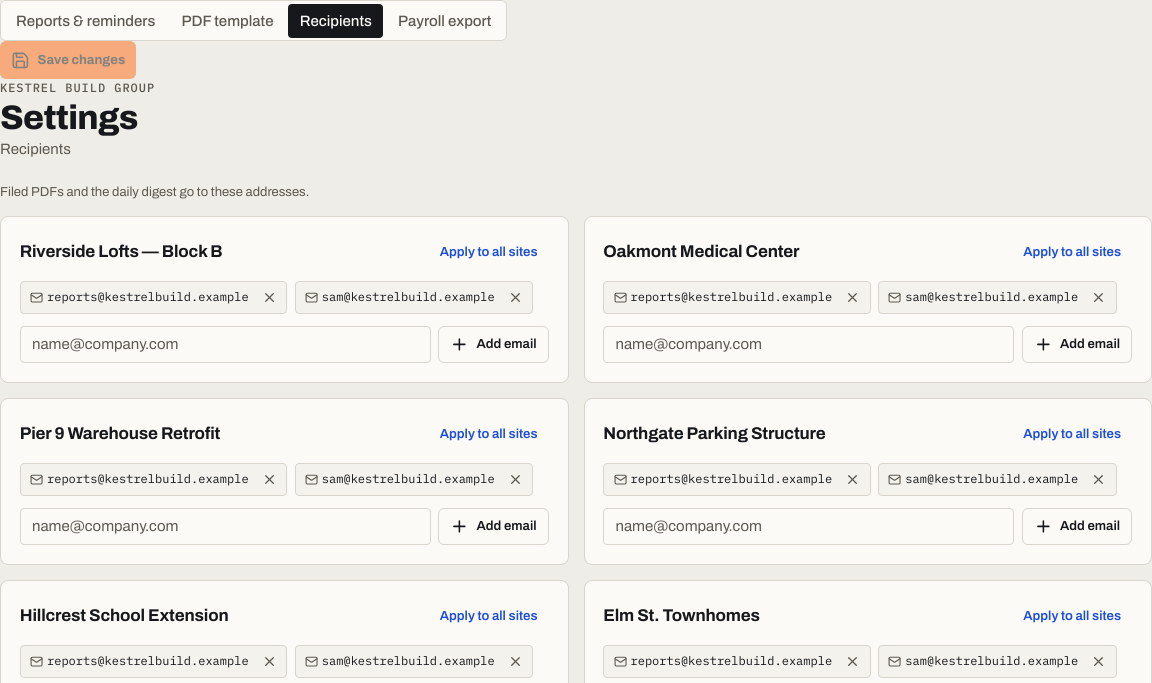
Test: SettingsPage (demo data) › edits recipients per site and applies one list to all sites
Expected: the heading "Settings" is shown, [0,100,155,134]
Expected: the tab "Recipients" is shown, [288,4,383,38]
In the field with placeholder "name@company.com" below "Riverside Lofts — Block B": (225, 344) [20,326,431,363], type "owner@riverside.example"
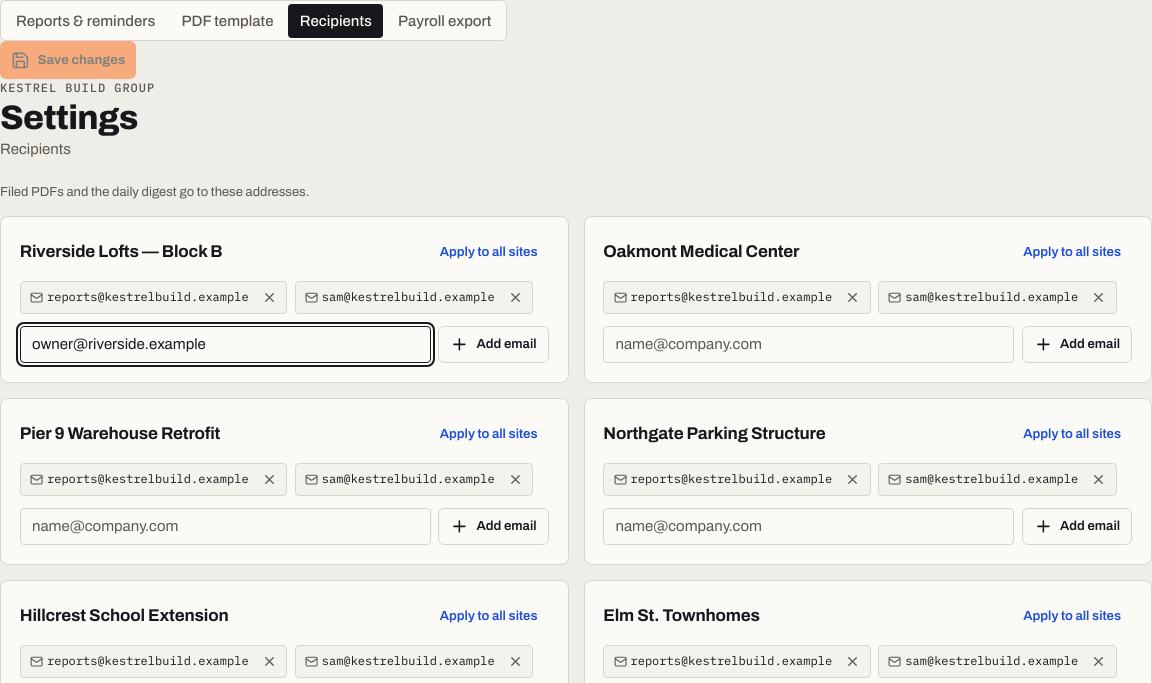
Click the button with aria-label "Add email · Riverside": (493, 344) [438,326,549,363]
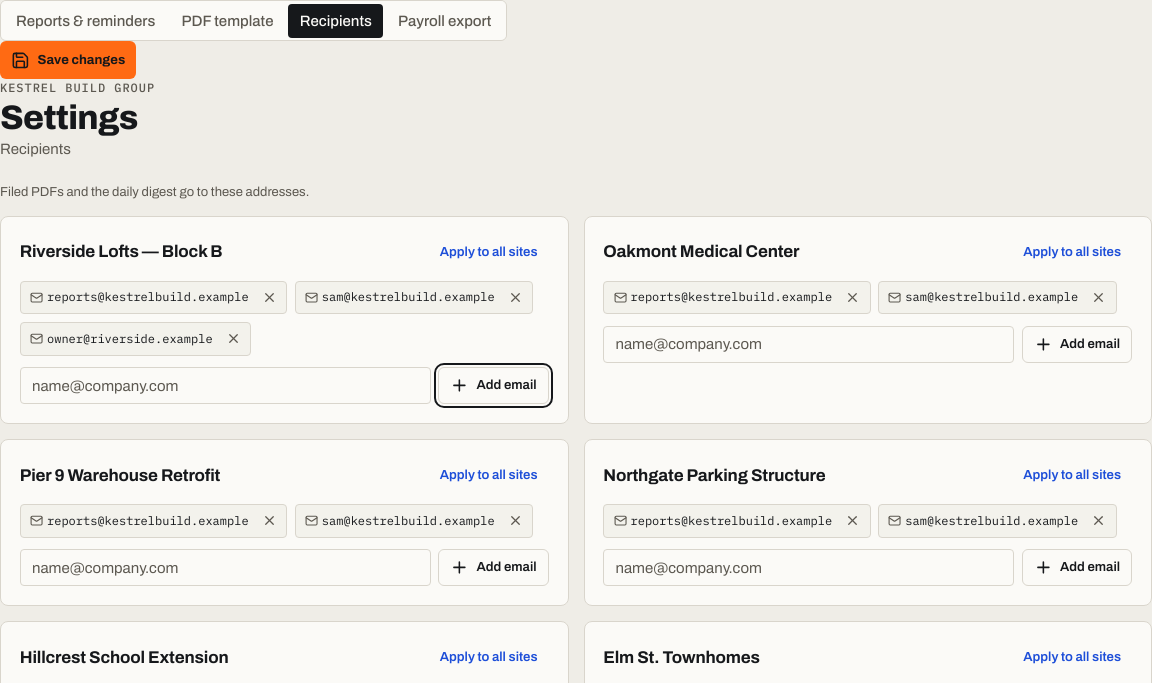
Now the list item "owner@riverside.example" is shown, box [20,322,251,356]
Click the button with aria-label "Apply to all sites · Riverside": (489, 252) [428,236,549,269]
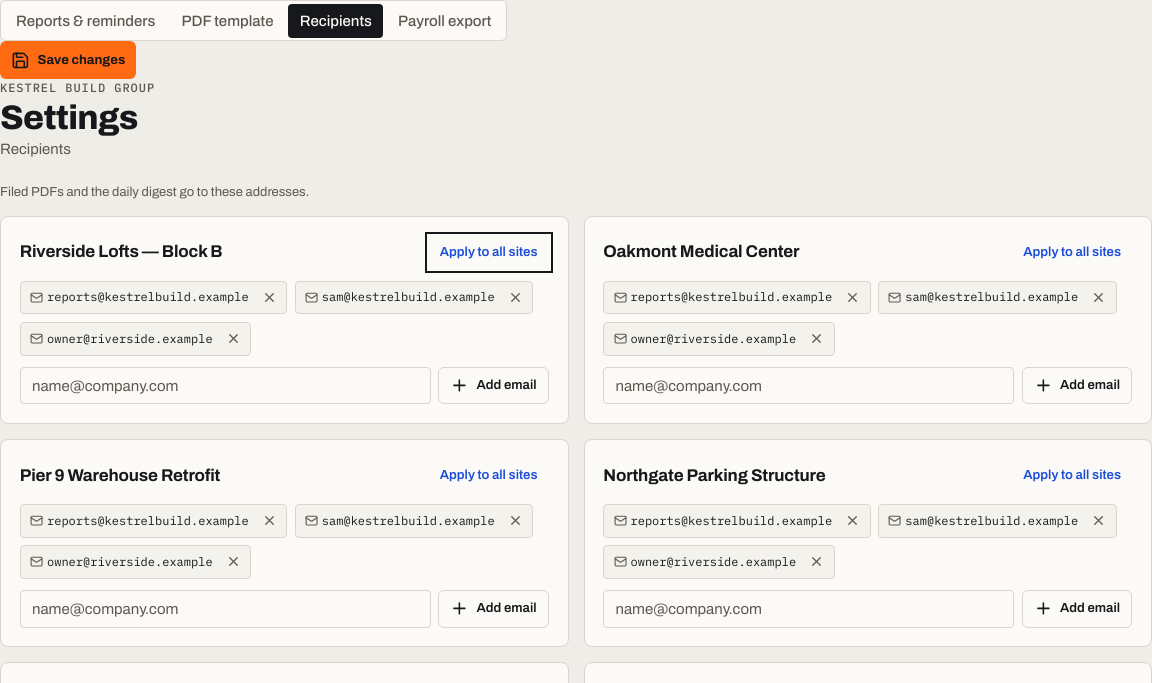
Click the button with test id "save-settings": (68, 60) [0,41,136,79]
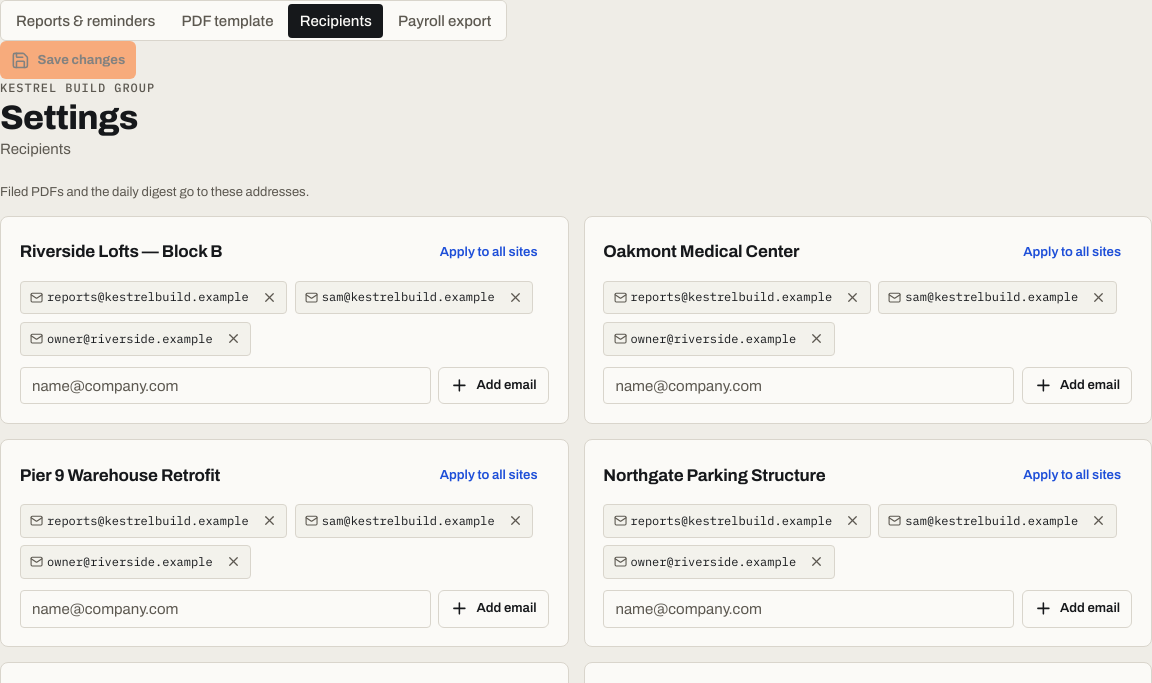
Now the list item "owner@riverside.example" below "Riverside Lofts — Block B" is shown, box [47,331,213,346]
Now the button with test id "save-settings" is disabled, box [0,41,136,79]
